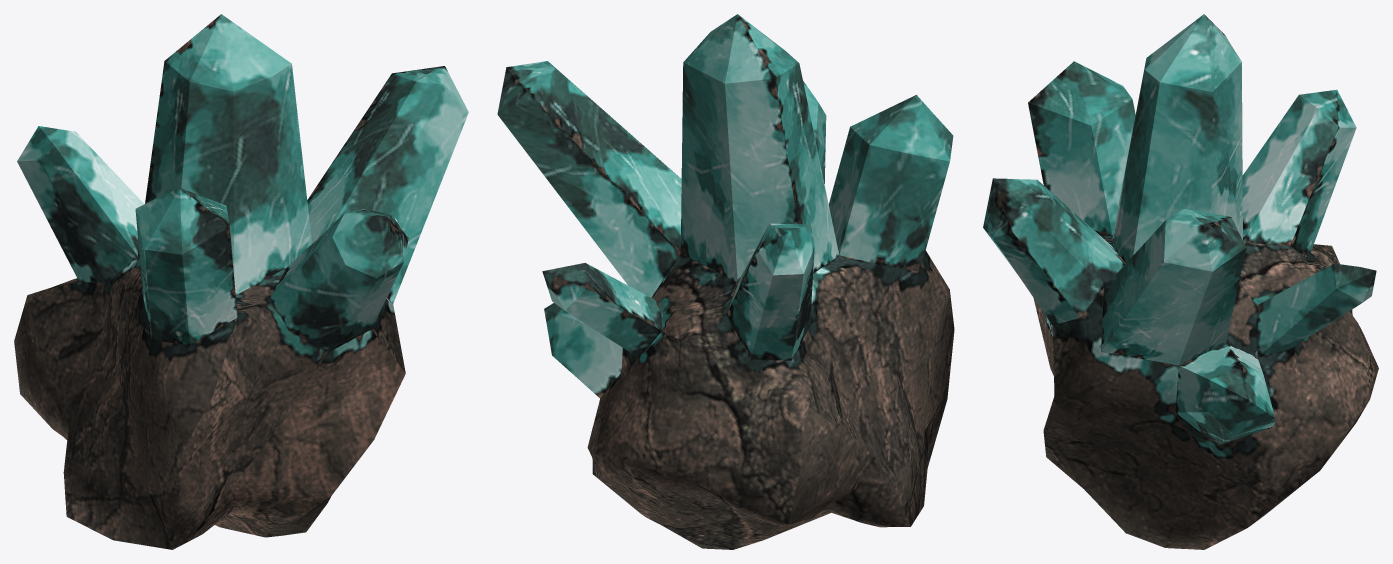
File: crystal.fbx
3 views of the same model, side by side, from view 1: azimuth 30°, elevation 25°; view 2: azimuth 150°, elevation 25°; view 3: azimuth 270°, elevation 25° (orthographic). The views are drawn at different scales.
Visible parts, largest first — view 1: Crystal; view 2: Crystal; view 3: Crystal.
Part boxes in pixels (x1=…): Crystal: x1=14, y1=14, x2=468, y2=549; Crystal: x1=497, y1=14, x2=954, y2=549; Crystal: x1=983, y1=14, x2=1378, y2=549.
Bounding box in the file's own units: 45.99 × 40.91 × 59.23.
